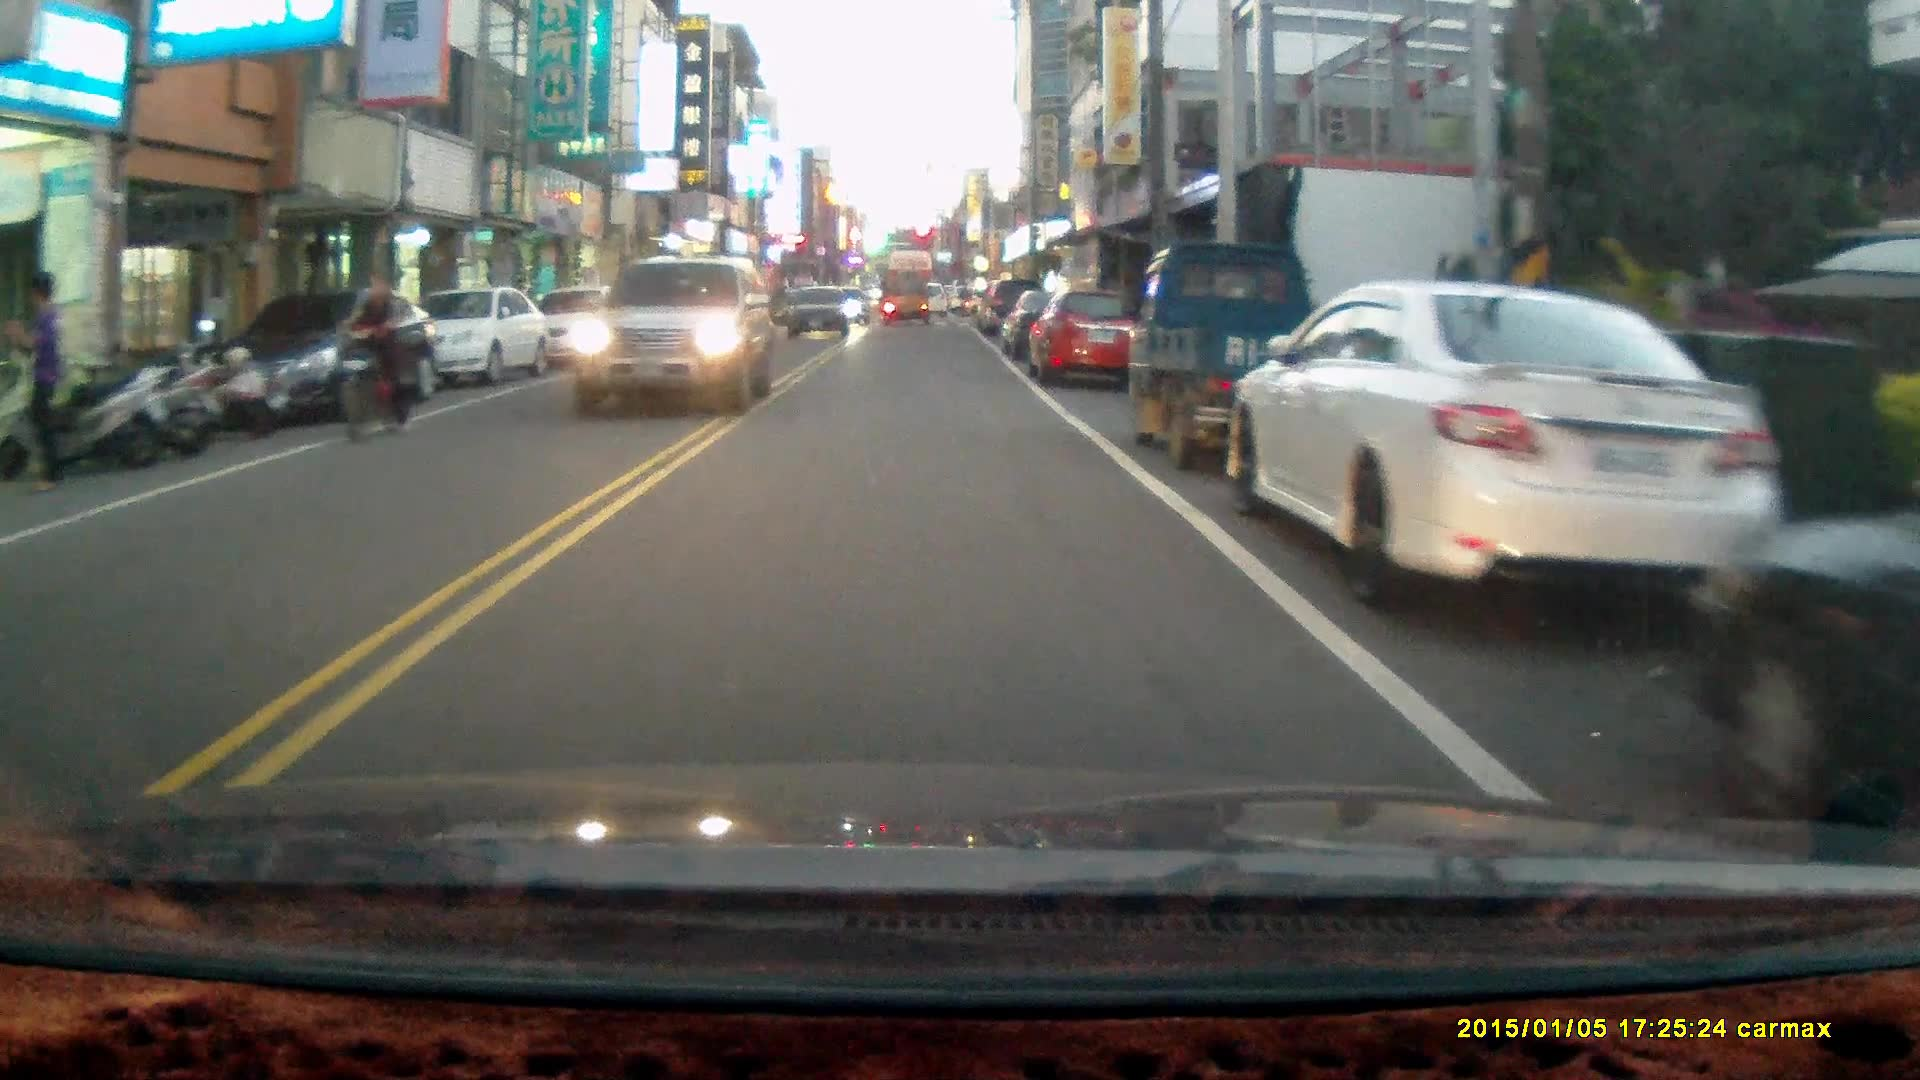pedestrian: (3, 269, 66, 499)
rider: (333, 269, 414, 443)
vehicle: (1222, 277, 1794, 624), (1687, 482, 1920, 849), (1131, 237, 1367, 475), (570, 254, 778, 422), (202, 285, 432, 423), (369, 286, 549, 393), (1033, 289, 1145, 391), (783, 287, 856, 341), (881, 273, 935, 332)
